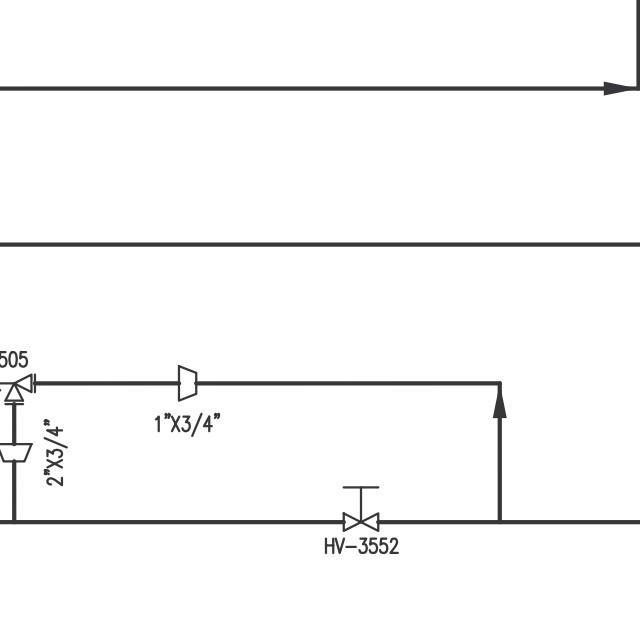HVWT: (338, 477, 384, 532)
SP: (172, 359, 203, 405), (0, 437, 33, 466)
